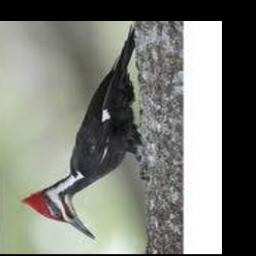Woodpecker: (20, 26, 142, 240)
